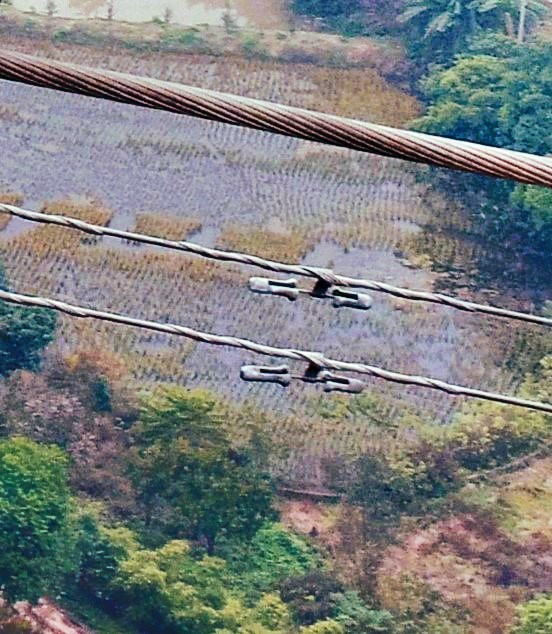Shockproof hammer: (237, 335, 369, 403), (243, 252, 377, 318)
